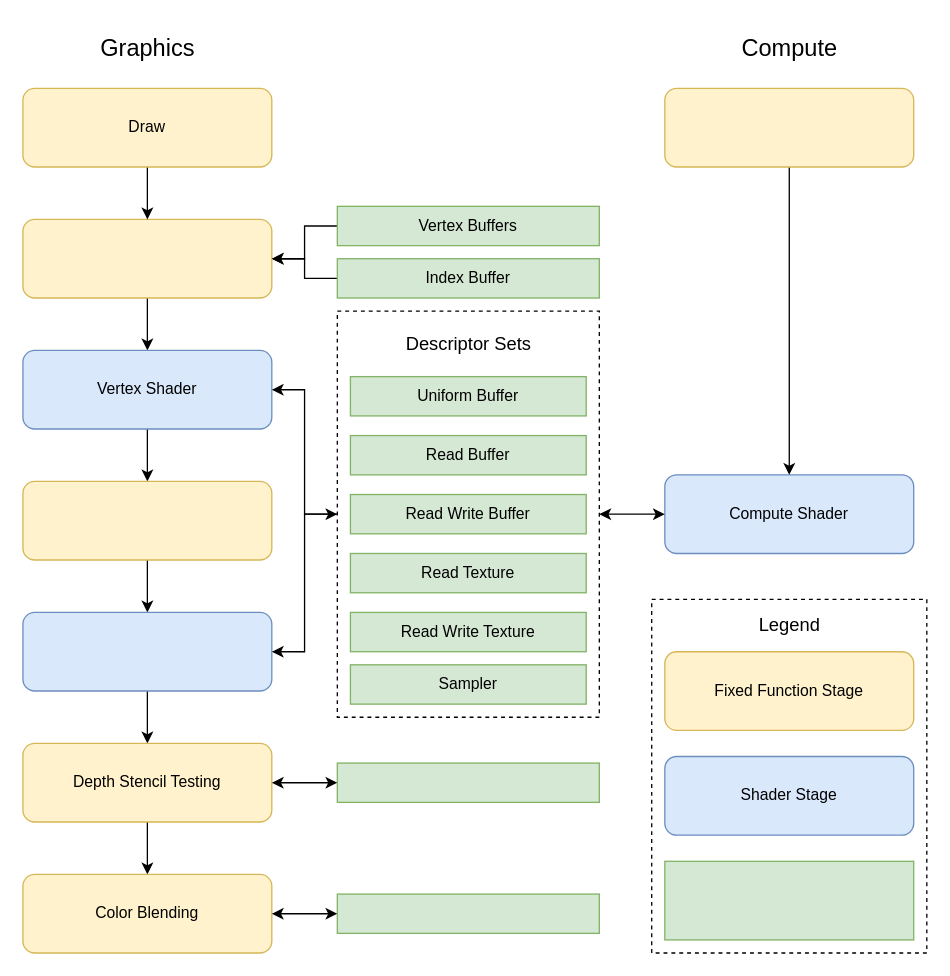
The diagram is 950 pixels wide and 976 high, and some of its shapes have lost their labels. The centre of each missing label's shape, as x and y in pixels:
"Color Attachments" belongs at point (467, 913).
"Depth Stencil Attachment" belongs at point (467, 782).
"Dispatch" belongs at point (789, 127).
"Input Assembler" belongs at point (147, 258).
"Pixel Shader" belongs at point (147, 651).
"Rasterizer" belongs at point (147, 520).
"Resource" belongs at point (789, 900).
